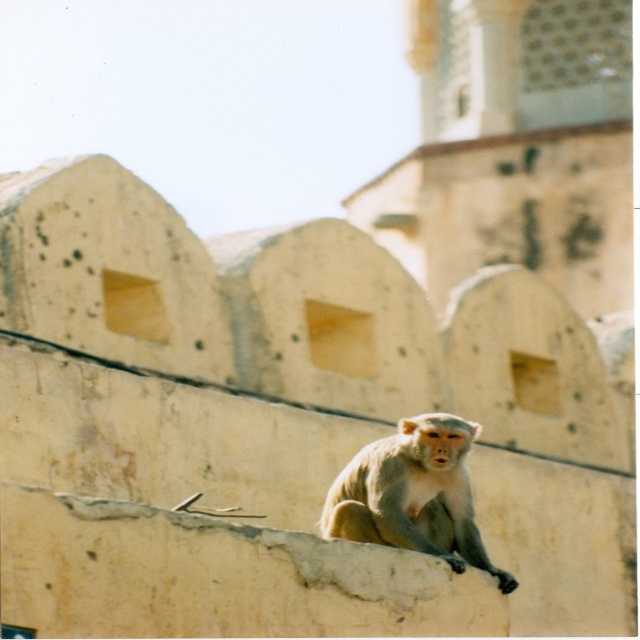Monkey: (324, 424, 513, 600)
